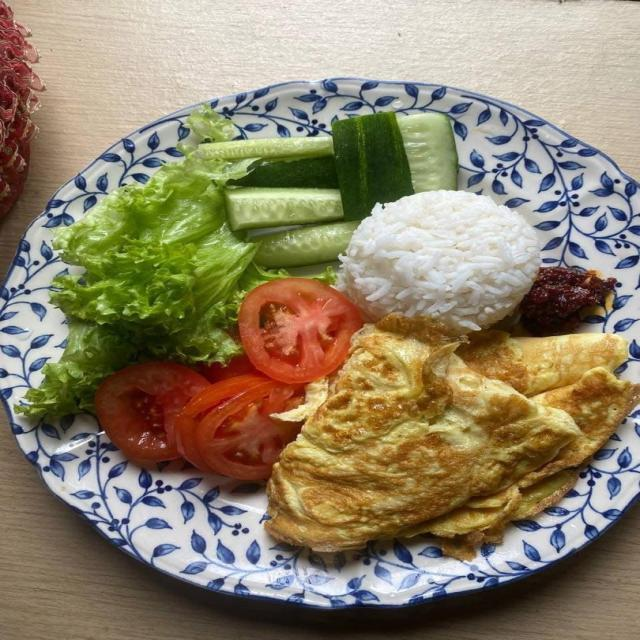Egg: (259, 322, 639, 559)
Plate: (0, 110, 639, 606)
Rice: (338, 193, 546, 335)
Vegetables: (13, 107, 466, 485)
